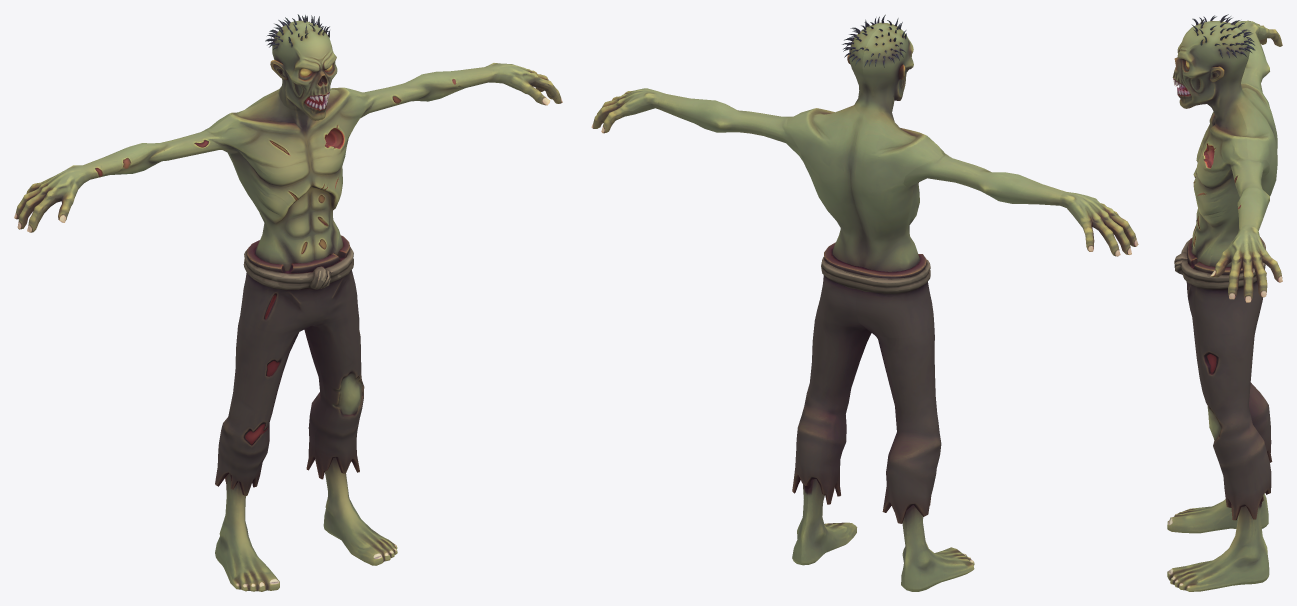
File: zombie.glb
3 renders of one model, left to right at view 1: azimuth 30°, elevation 25°; view 2: azimuth 150°, elevation 25°; view 3: azimuth 270°, elevation 25°, orthographic.
Visible parts, largest first — view 1: SZombie_Variant_1; view 2: SZombie_Variant_1; view 3: SZombie_Variant_1.
Boxes of the visible parts, x1,y1,x2,y2 form: SZombie_Variant_1: (14,14,562,591); SZombie_Variant_1: (591,14,1138,591); SZombie_Variant_1: (1167,14,1282,591).
Size of the model in its own units: 1.88 by 1.81 by 0.3537.
Materials: 1 (1 with a texture image).
